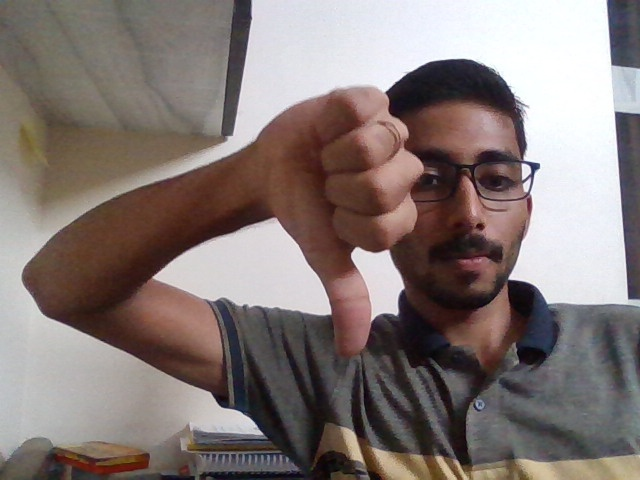No: (249, 76, 430, 372)
